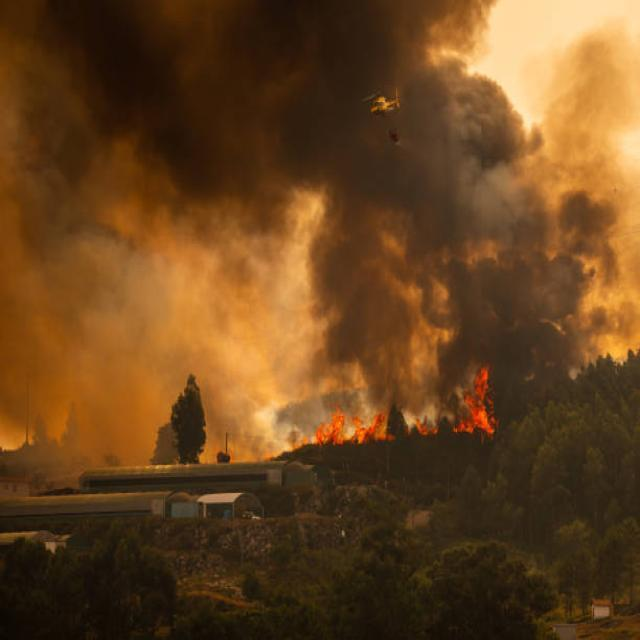Fire: (302, 395, 442, 443), (437, 356, 505, 439)
Smoke: (4, 0, 640, 302), (3, 259, 146, 467), (366, 268, 640, 370), (209, 278, 357, 436)
